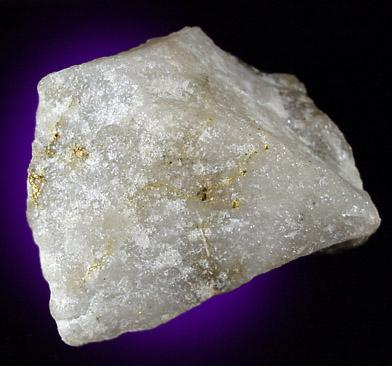gold: (146, 158, 248, 202), (87, 244, 111, 274), (28, 172, 42, 204), (68, 143, 91, 160), (209, 202, 227, 209), (232, 197, 241, 208)
